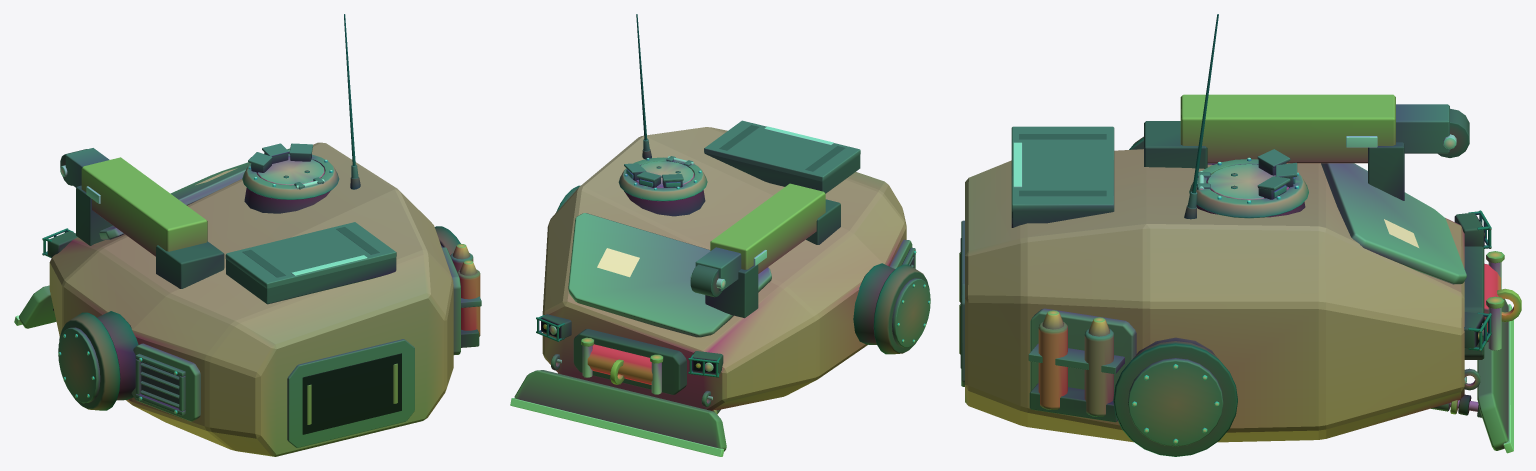
The model's file is core_pionier_dach.glb.
3 views of the same model, side by side, from view 1: azimuth 30°, elevation 25°; view 2: azimuth 150°, elevation 25°; view 3: azimuth 270°, elevation 25° (orthographic). The views are drawn at different scales.
Visible parts, largest first — view 1: Body__armor_sub, Body__gunmetal, Body__dark, Body__accent, Body__bore, Body__armor, Body__armor_oxide, Body__hazard; view 2: Body__armor_sub, Body__dark, Body__armor, Body__gunmetal, Body__accent, Body__hazard, Body__copper, Body__chrome, Body__decal; view 3: Body__armor_sub, Body__gunmetal, Body__dark, Body__accent, Body__armor, Body__armor_oxide, Body__hazard, Body__chrome, Body__brass, Body__copper.
Boxes of the visible parts, box(x1,y1,x2,y2) form: Body__armor_sub: box(19, 142, 460, 456); Body__gunmetal: box(42, 143, 481, 447); Body__dark: box(47, 14, 479, 410); Body__accent: box(81, 157, 207, 256); Body__bore: box(302, 353, 401, 434); Body__armor: box(99, 148, 324, 239); Body__armor_oxide: box(457, 269, 480, 336); Body__hazard: box(14, 186, 367, 325); Body__armor_sub: box(514, 127, 912, 451); Body__dark: box(541, 14, 929, 394); Body__armor: box(568, 161, 771, 337); Body__gunmetal: box(536, 120, 930, 413); Body__accent: box(610, 183, 825, 384); Body__hazard: box(510, 126, 833, 456); Body__copper: box(587, 344, 652, 384); Body__chrome: box(556, 156, 930, 400); Body__decal: box(597, 248, 639, 277); Body__armor_sub: box(965, 149, 1508, 450); Body__gunmetal: box(961, 104, 1491, 446); Body__dark: box(1011, 14, 1484, 456); Body__accent: box(1180, 94, 1521, 322); Body__armor: box(1207, 163, 1466, 284); Body__armor_oxide: box(1038, 322, 1067, 409); Body__hazard: box(1013, 136, 1513, 453); Body__chrome: box(1132, 134, 1501, 444); Body__brass: box(1042, 251, 1504, 414); Body__copper: box(959, 252, 1500, 354).
Size of the model in its own units: 2.21 by 1.98 by 2.3.
